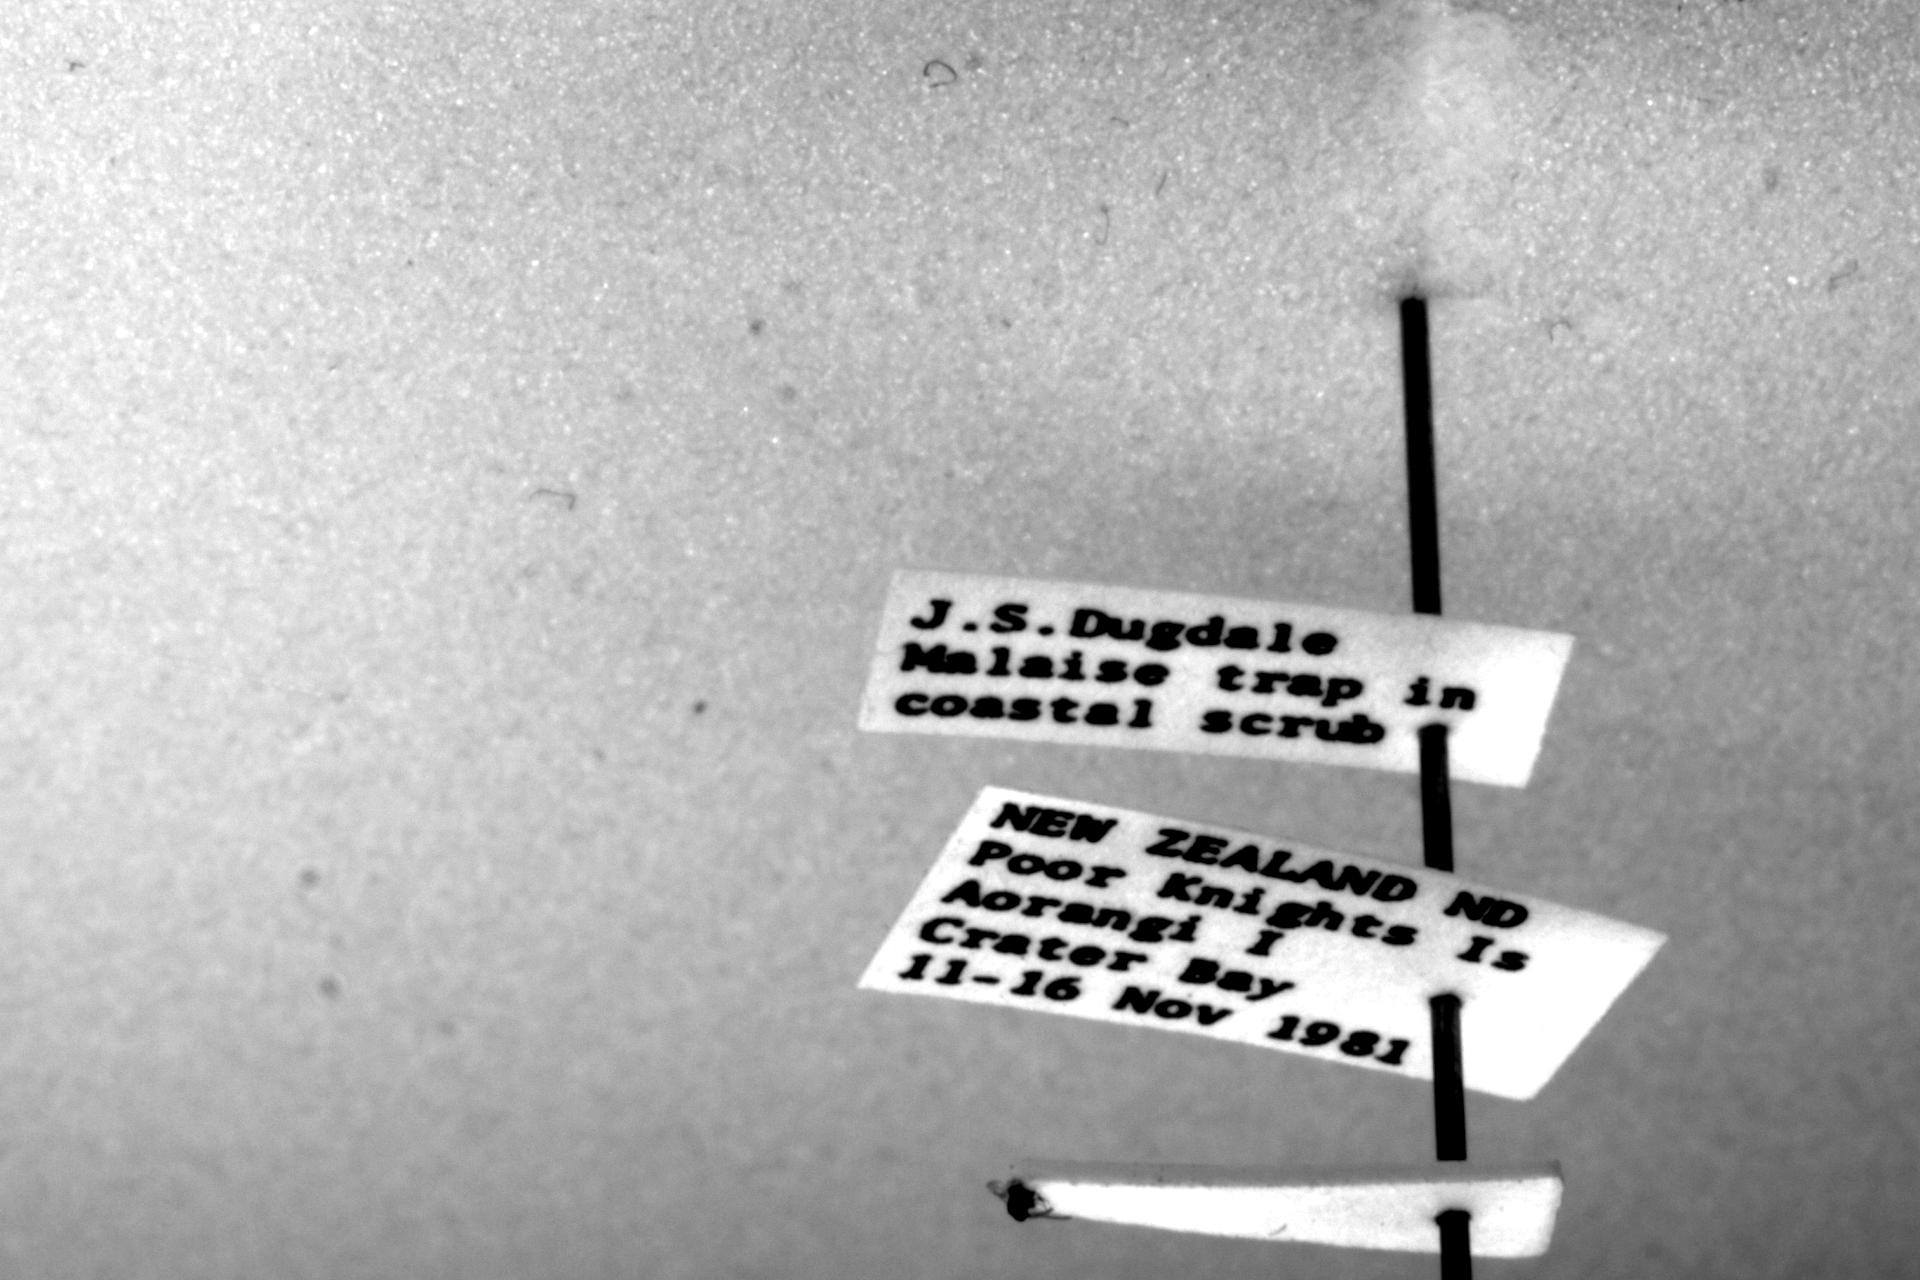typed_label: (859, 787, 1666, 1099), (859, 570, 1571, 787)
